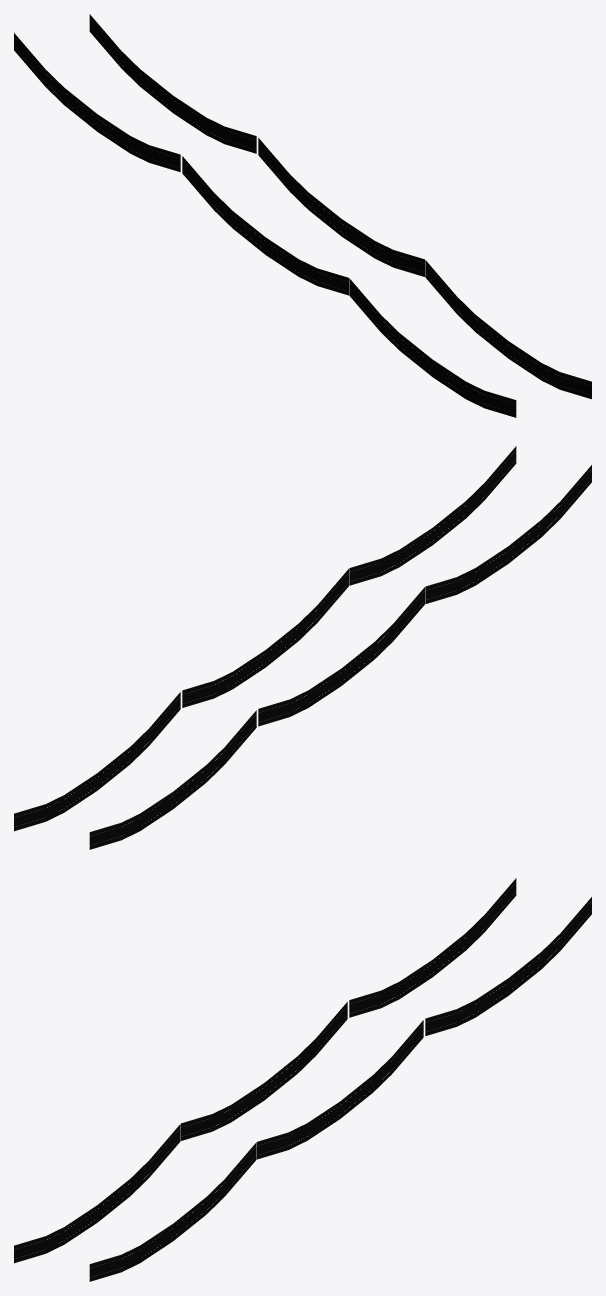
The model's file is vgntelwires08.obj.
3 views of the same model, one above another, from view 1: azimuth 30°, elevation 25°; view 2: azimuth 150°, elevation 25°; view 3: azimuth 330°, elevation 25° (orthographic).
Parts seen in each view (by area): view 1: vgntelwires08; view 2: vgntelwires08; view 3: vgntelwires08.
Boxes of the visible parts, x1,y1,x2,y2 form: vgntelwires08: [14, 14, 591, 417]; vgntelwires08: [14, 446, 591, 849]; vgntelwires08: [14, 878, 591, 1281].
Size of the model in its own units: 5.65 by 2.73 by 64.75.
Materials: 1 (1 with a texture image).
